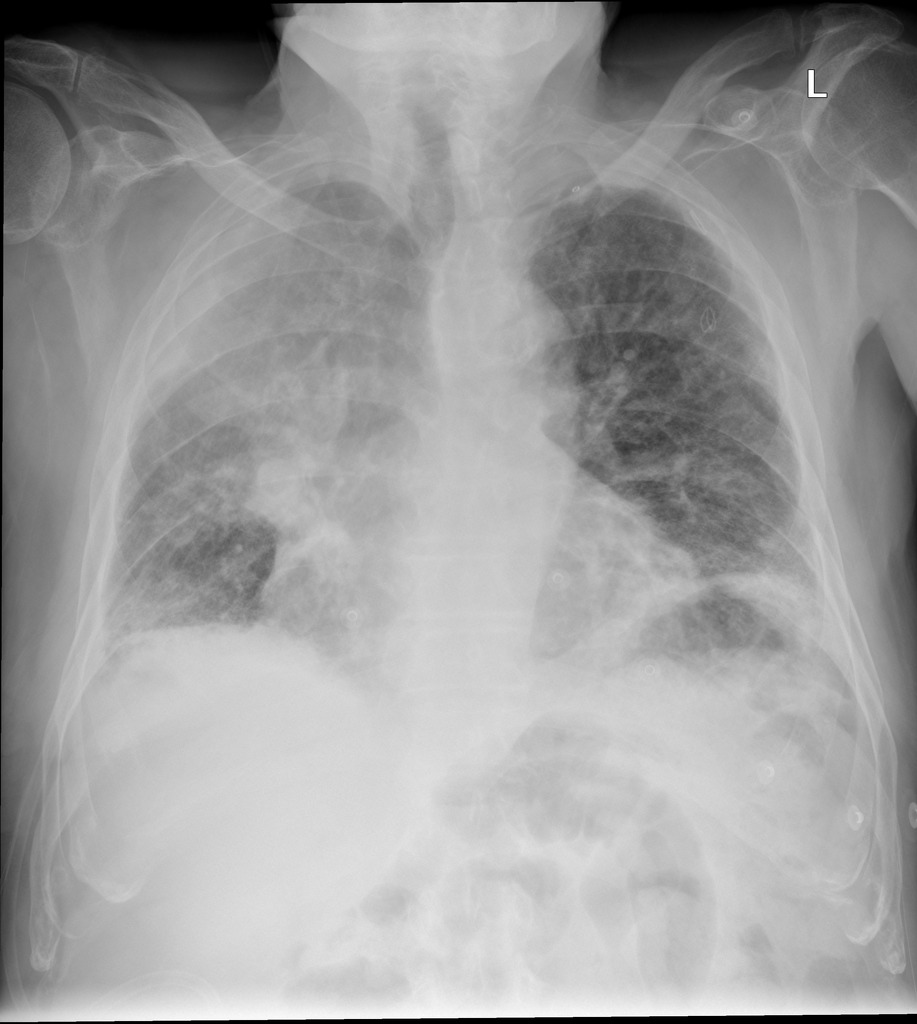cancer: (117, 208, 404, 708), (536, 187, 786, 630)
